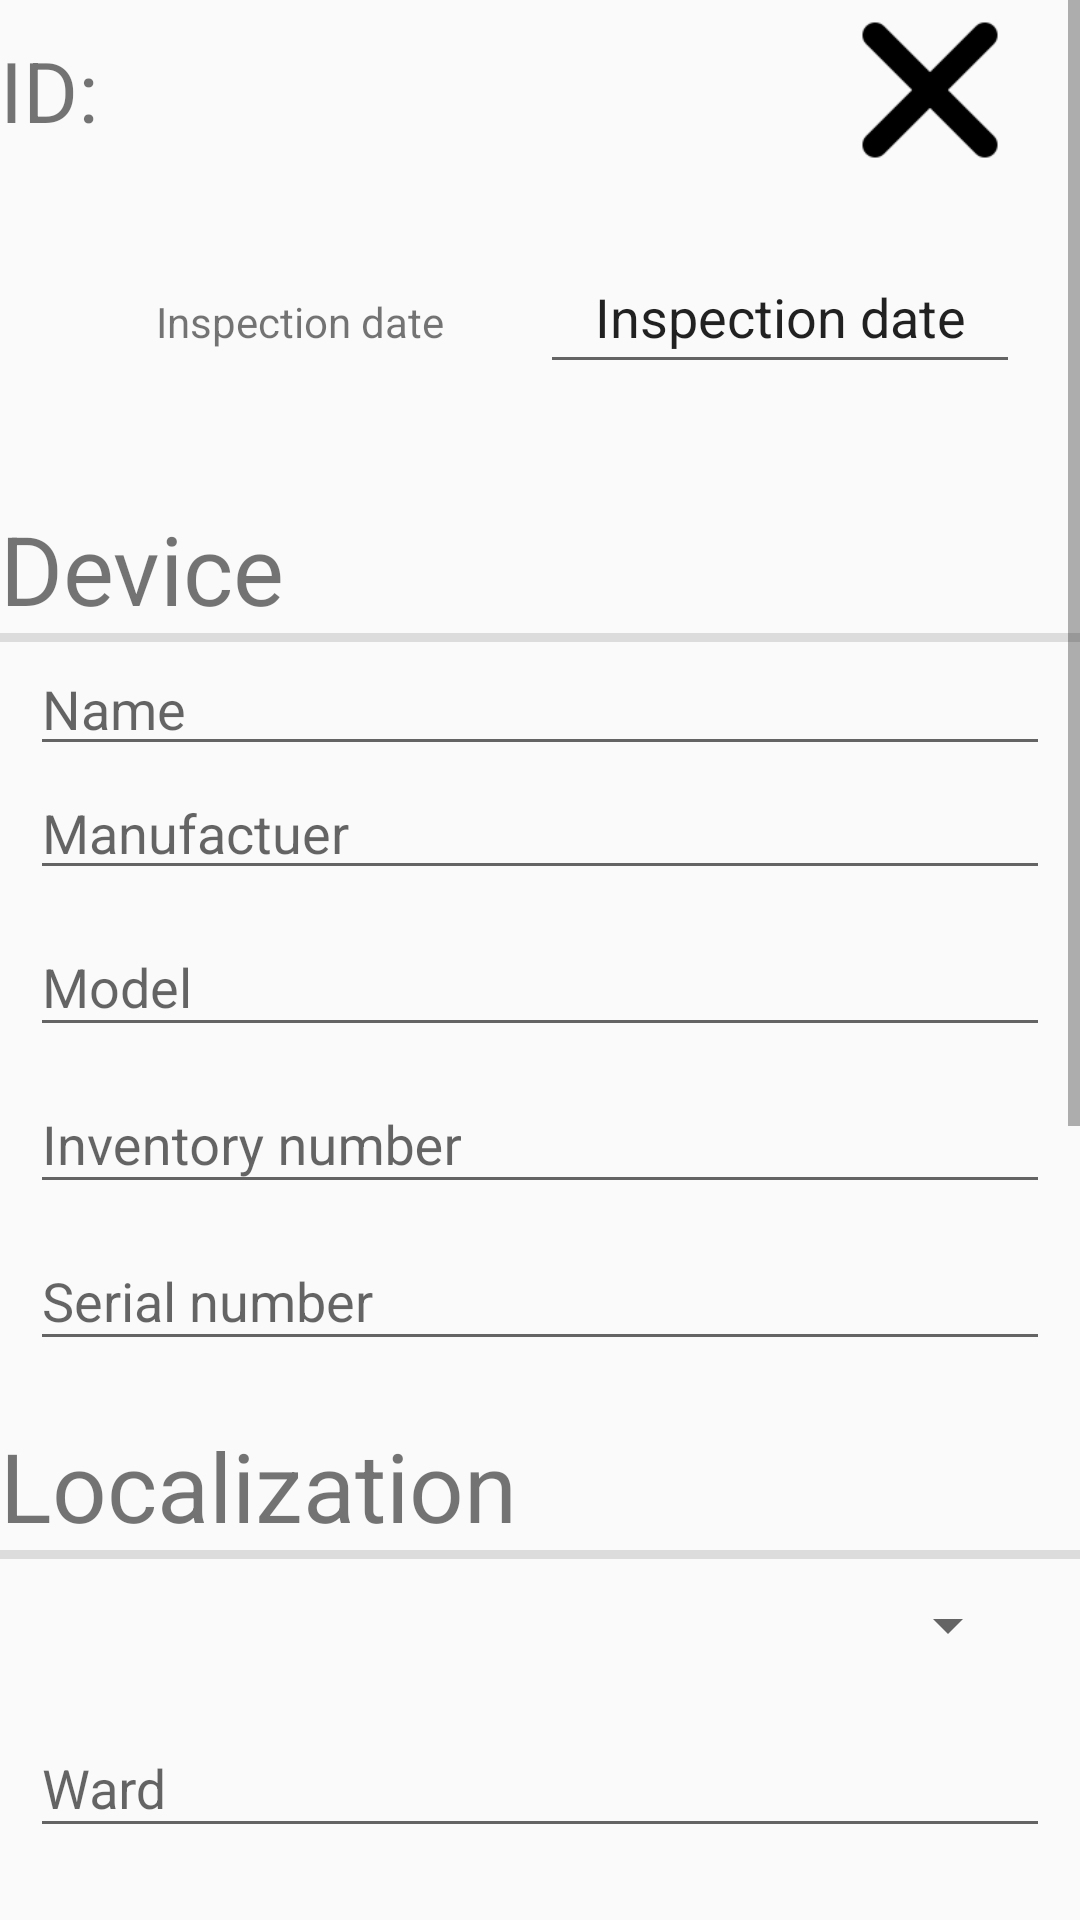

Screen size 1080px×1920px. Icon name, then its box in pixels as bbox(x1, y1, x2, y2):
cancel: bbox(862, 22, 998, 158)
